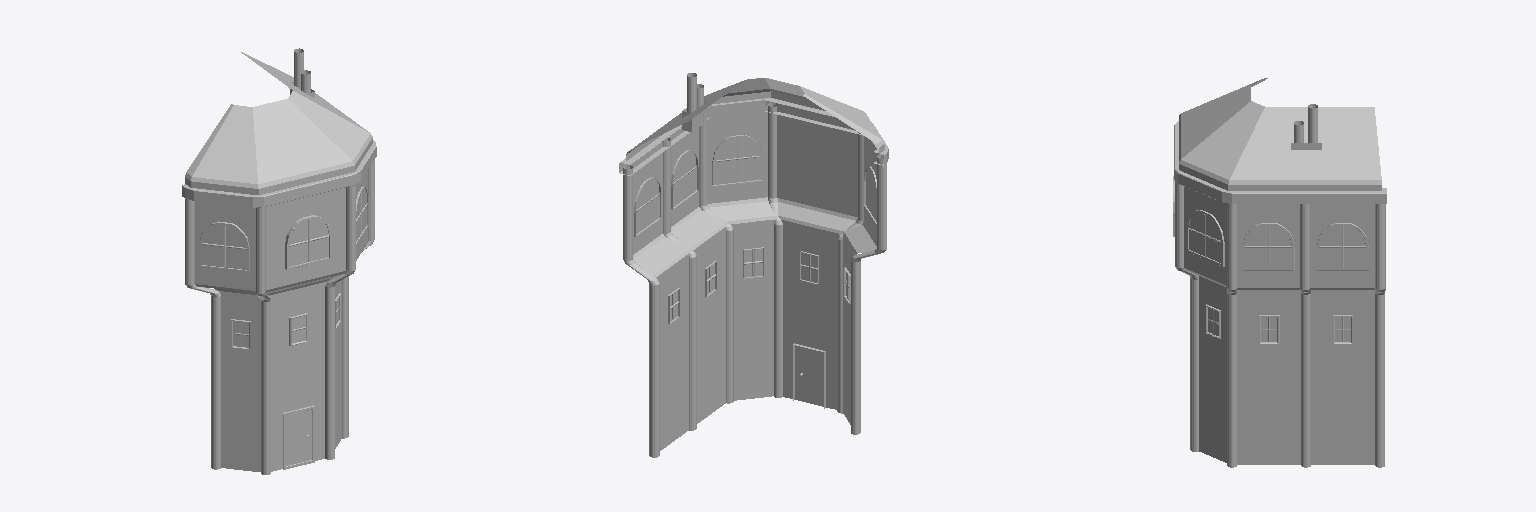
File: Building_5.obj
3 renders of one model, left to right at view 1: azimuth 30°, elevation 25°; view 2: azimuth 150°, elevation 25°; view 3: azimuth 270°, elevation 25°, orthographic.
Visible parts, largest first — view 1: Walls Building_5, Building_5 Roof, Building_5 Frame Frame_2, Building_5 Frame Frame_3, Building_5 Frame_1 Frame, Building_5 Frame Roof_Frame, Building_5 Door Door, Building_5 Frame Frame_4, Building_5 Windows Big_Window_5 Pane, Building_5 Windows Big_Window_1 Pane, Building_5 Windows Window_Frame Big_Window_1, Building_5 Windows Window_Frame Big_Window_5 (+1 smaller); view 2: Walls Building_5, Building_5 Roof, Building_5 Frame Frame_6, Building_5 Frame_1 Frame, Building_5 Frame Frame_3, Building_5 Frame Frame_5, Building_5 Frame Frame_4, Building_5 Frame Roof_Frame, Building_5 Frame Frame_2, Building_5 Chimney; view 3: Walls Building_5, Building_5 Roof, Building_5 Frame Roof_Frame, Building_5 Frame Frame_6, Building_5 Frame Frame_4, Building_5 Frame Frame_5, Building_5 Frame Frame_3, Building_5 Windows Big_Window_4 Pane, Building_5 Windows Big_Window_3 Pane, Building_5 Windows Big_Window_2 Pane, Building_5 Chimney, Building_5 Windows Window_Frame Big_Window_3 (+1 smaller).
Boxes of the visible parts, x1=… form: Walls Building_5: x1=195, y1=171, x2=367, y2=471; Building_5 Roof: x1=185, y1=52, x2=372, y2=194; Building_5 Frame Frame_2: x1=255, y1=207, x2=270, y2=474; Building_5 Frame Frame_3: x1=325, y1=184, x2=355, y2=459; Building_5 Frame_1 Frame: x1=185, y1=199, x2=220, y2=469; Building_5 Frame Roof_Frame: x1=182, y1=87, x2=376, y2=207; Building_5 Door Door: x1=283, y1=405, x2=314, y2=469; Building_5 Frame Frame_4: x1=342, y1=160, x2=374, y2=438; Building_5 Windows Big_Window_5 Pane: x1=202, y1=224, x2=246, y2=269; Building_5 Windows Big_Window_1 Pane: x1=289, y1=218, x2=328, y2=266; Building_5 Windows Window_Frame Big_Window_1: x1=285, y1=215, x2=331, y2=269; Building_5 Windows Window_Frame Big_Window_5: x1=199, y1=221, x2=249, y2=272; Walls Building_5: x1=628, y1=105, x2=881, y2=450; Building_5 Roof: x1=626, y1=78, x2=884, y2=160; Building_5 Frame Frame_6: x1=623, y1=165, x2=659, y2=457; Building_5 Frame_1 Frame: x1=851, y1=155, x2=886, y2=434; Building_5 Frame Frame_3: x1=768, y1=103, x2=782, y2=397; Building_5 Frame Frame_5: x1=662, y1=138, x2=696, y2=430; Building_5 Frame Frame_4: x1=699, y1=122, x2=733, y2=403; Building_5 Frame Roof_Frame: x1=619, y1=98, x2=888, y2=175; Building_5 Frame Frame_2: x1=837, y1=132, x2=863, y2=413; Building_5 Chimney: x1=682, y1=73, x2=706, y2=131; Walls Building_5: x1=1184, y1=187, x2=1374, y2=464; Building_5 Roof: x1=1179, y1=78, x2=1381, y2=190; Building_5 Frame Roof_Frame: x1=1174, y1=121, x2=1386, y2=203; Building_5 Frame Frame_6: x1=1375, y1=204, x2=1385, y2=467; Building_5 Frame Frame_4: x1=1227, y1=203, x2=1236, y2=467; Building_5 Frame Frame_5: x1=1300, y1=204, x2=1310, y2=467; Building_5 Frame Frame_3: x1=1175, y1=181, x2=1198, y2=451; Building_5 Windows Big_Window_4 Pane: x1=1319, y1=226, x2=1365, y2=267; Building_5 Windows Big_Window_3 Pane: x1=1245, y1=226, x2=1291, y2=267; Building_5 Windows Big_Window_2 Pane: x1=1189, y1=211, x2=1220, y2=262; Building_5 Chimney: x1=1291, y1=104, x2=1321, y2=149; Building_5 Windows Window_Frame Big_Window_3: x1=1243, y1=223, x2=1294, y2=270.
Bounding box in the file's own units: 10.6 × 18.99 × 10.28.